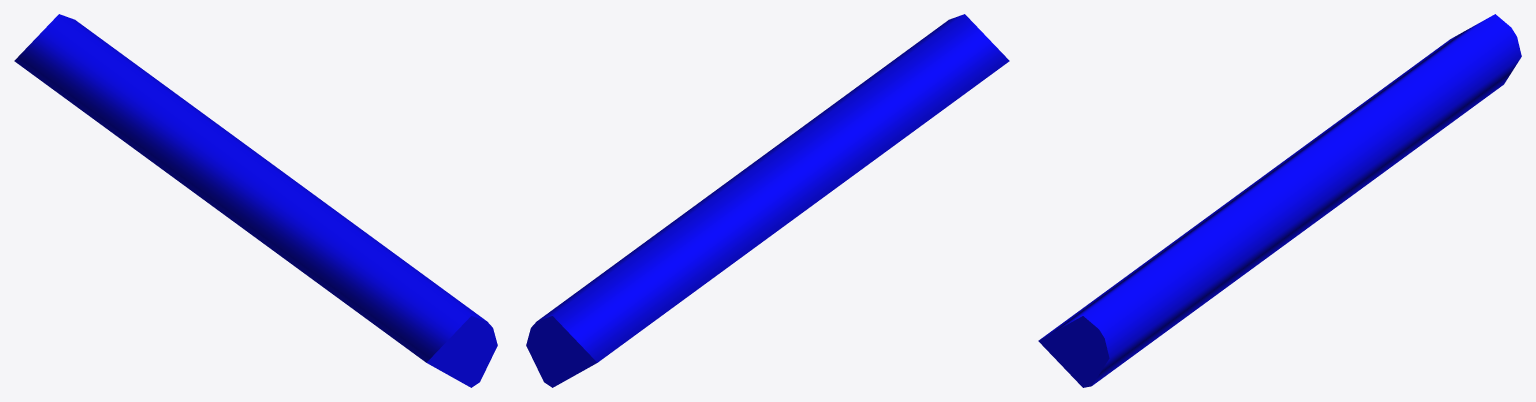
Rendered from pin.obj.
3 renders of one model, left to right at view 1: azimuth 30°, elevation 25°; view 2: azimuth 150°, elevation 25°; view 3: azimuth 330°, elevation 25°, orthographic.
Parts seen in each view (by area): view 1: mesh 1 pin; view 2: mesh 1 pin; view 3: mesh 1 pin.
Part boxes in pixels (bbox=[...]): mesh 1 pin: bbox=[14, 14, 497, 387]; mesh 1 pin: bbox=[526, 14, 1009, 387]; mesh 1 pin: bbox=[1038, 14, 1521, 387].
Size of the model in its own units: 0.001 by 0.000966 by 0.01.
